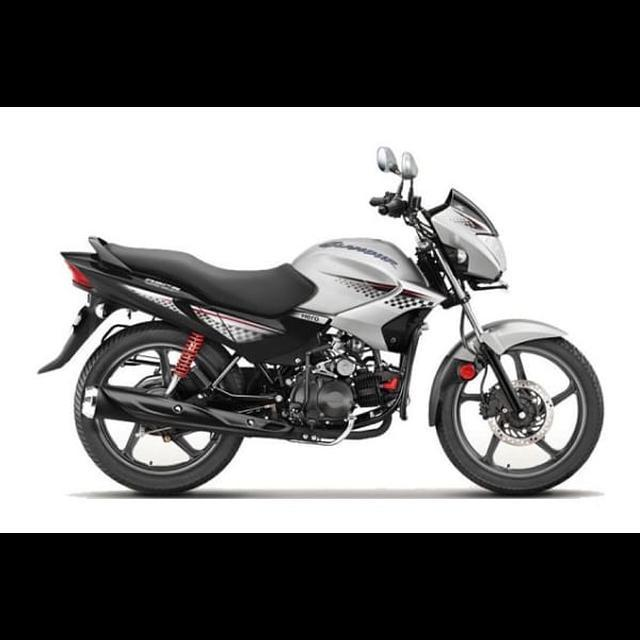motorcycle: (33, 137, 610, 503)
